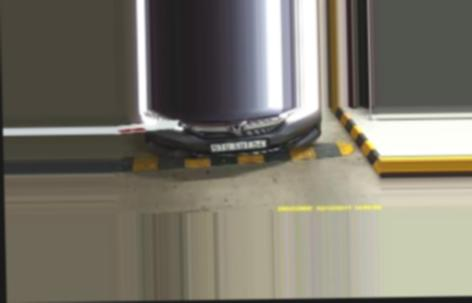License_Plate: (208, 140, 269, 151)
